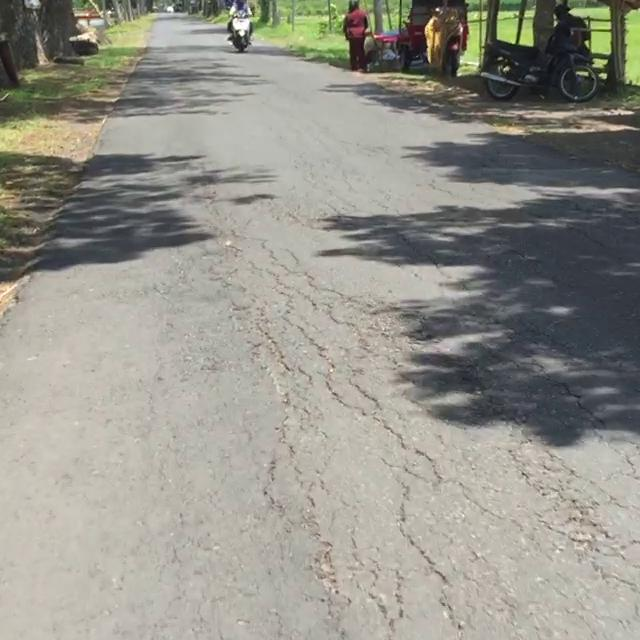retak_kulit_buaya: (217, 279, 607, 537), (262, 458, 480, 640), (497, 441, 640, 640)
